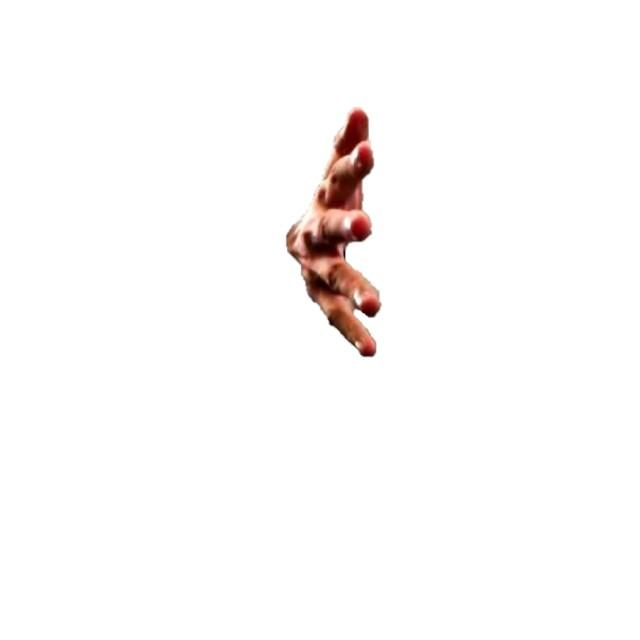pa-: (284, 107, 381, 358)
